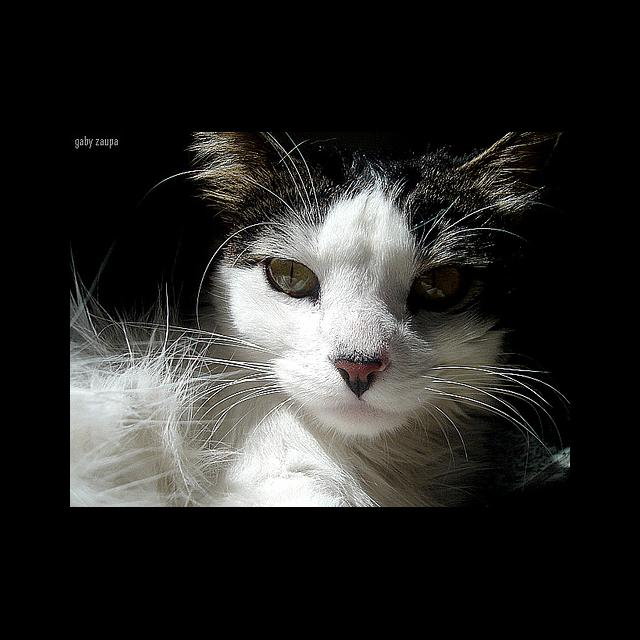animals: (189, 132, 570, 390)
